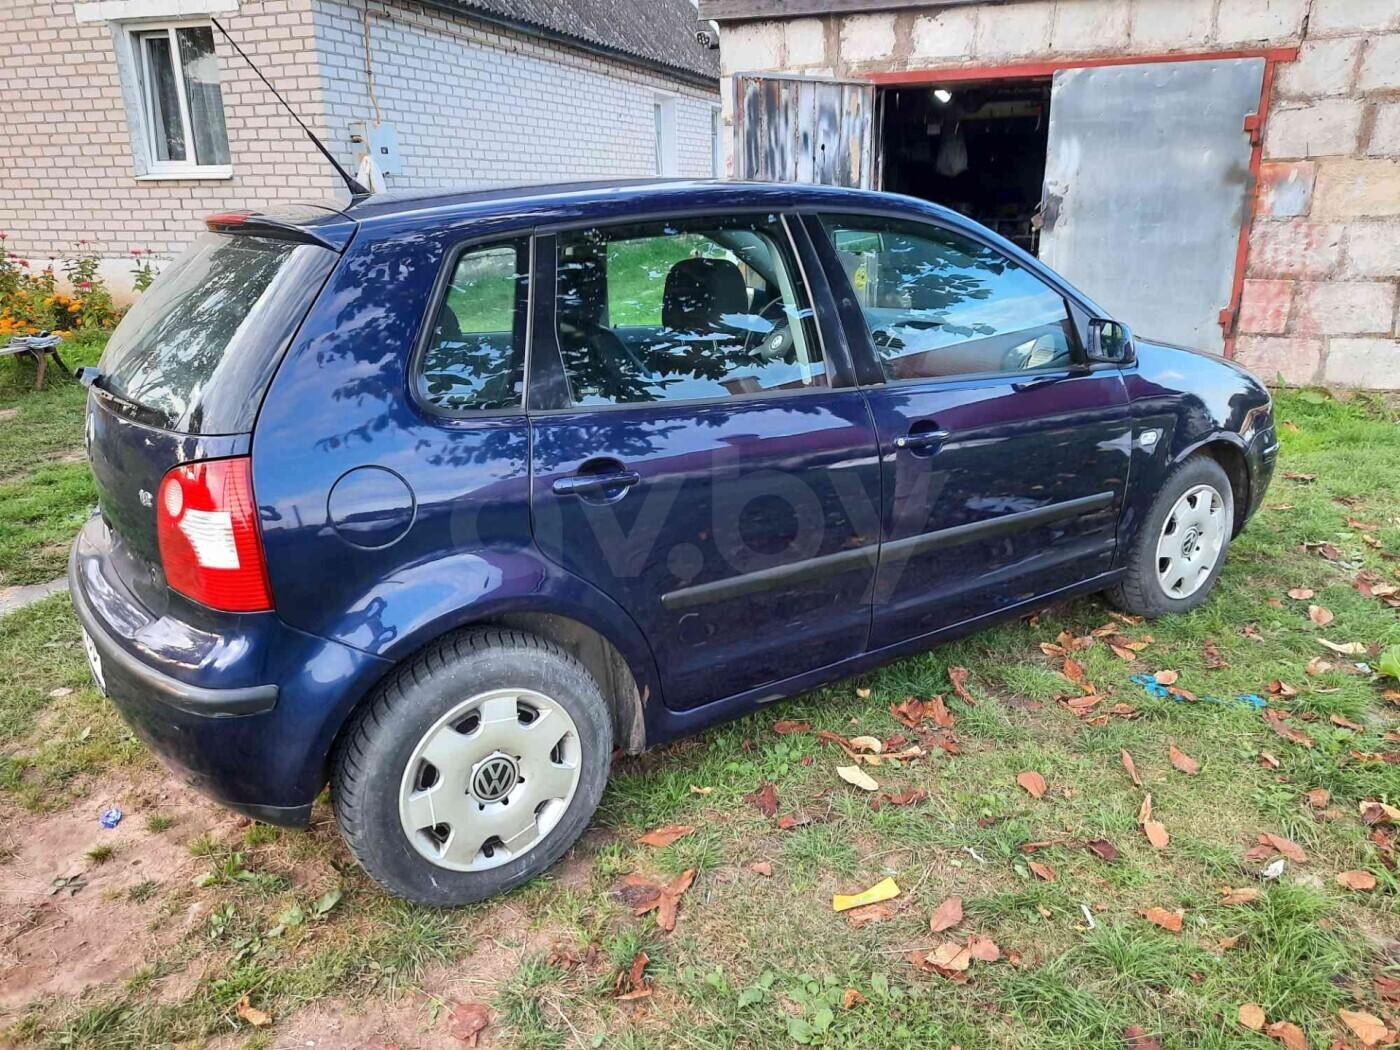Volswagen_Polo_2001_2003_3680: (56, 9, 1294, 919)
